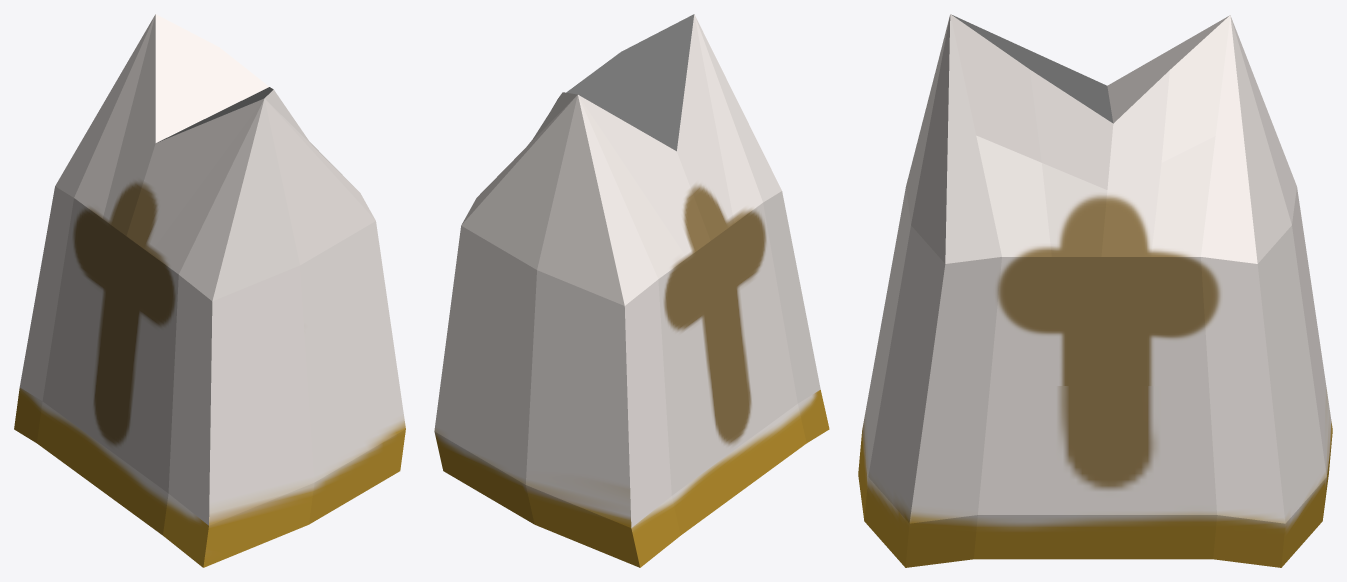
File: popehat.fbx
3 views of the same model, side by side, from view 1: azimuth 30°, elevation 25°; view 2: azimuth 150°, elevation 25°; view 3: azimuth 270°, elevation 25° (orthographic). The views are drawn at different scales.
Visible parts, largest first — view 1: Cube.001; view 2: Cube.001; view 3: Cube.001.
Boxes of the visible parts, x1,y1,x2,y2 form: Cube.001: (14, 14, 405, 567); Cube.001: (434, 14, 829, 567); Cube.001: (858, 14, 1332, 567).
Bounding box in the file's own units: 28.58 × 47.61 × 39.24.
